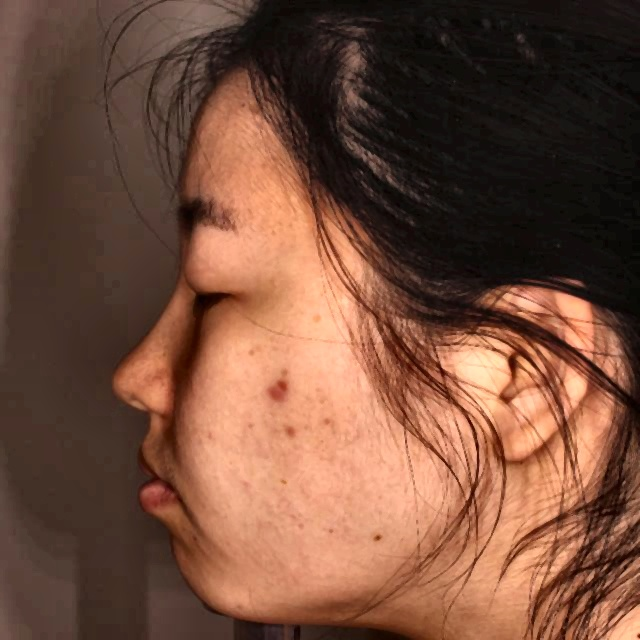comedone: (264, 367, 300, 407), (264, 417, 306, 441)
